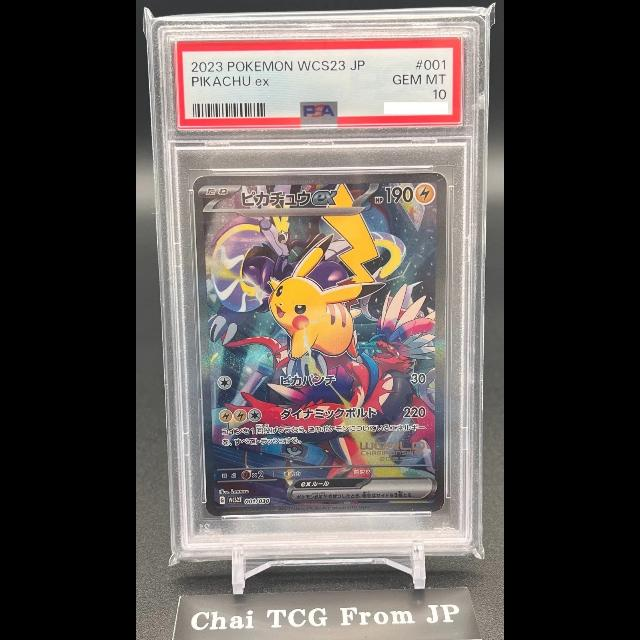card: (193, 172, 448, 515)
psa_label: (174, 37, 463, 130)
psa_slab: (147, 15, 488, 561)
